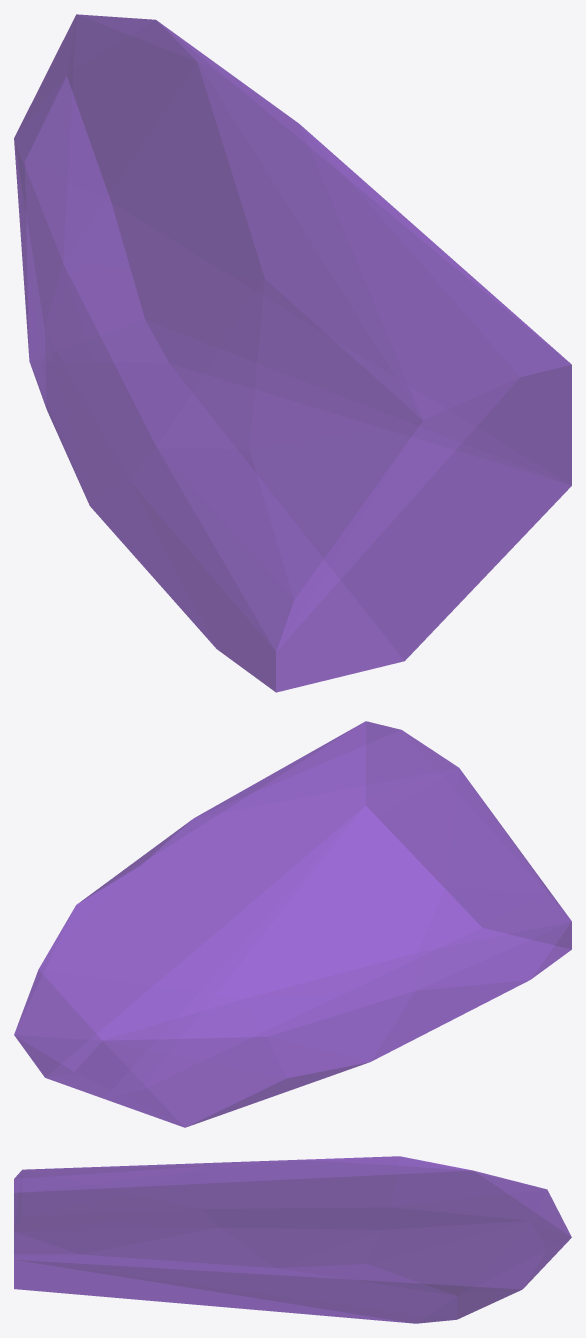
The picture shows the model from 3 angles, top to bottom: view 1: azimuth 30°, elevation 25°; view 2: azimuth 150°, elevation 25°; view 3: azimuth 270°, elevation 25°; orthographic projection. The views are drawn at different scales.
Parts seen in each view (by area): view 1: Shape_IndexedFaceSet.022_Shape_IndexedFaceSet.7628; view 2: Shape_IndexedFaceSet.022_Shape_IndexedFaceSet.7628; view 3: Shape_IndexedFaceSet.022_Shape_IndexedFaceSet.7628.
Boxes of the visible parts, x1,y1,x2,y2 form: Shape_IndexedFaceSet.022_Shape_IndexedFaceSet.7628: (14, 14, 571, 692); Shape_IndexedFaceSet.022_Shape_IndexedFaceSet.7628: (14, 721, 571, 1127); Shape_IndexedFaceSet.022_Shape_IndexedFaceSet.7628: (14, 1156, 571, 1323).
Size of the model in its own units: 0.047 by 0.047 by 0.139.
